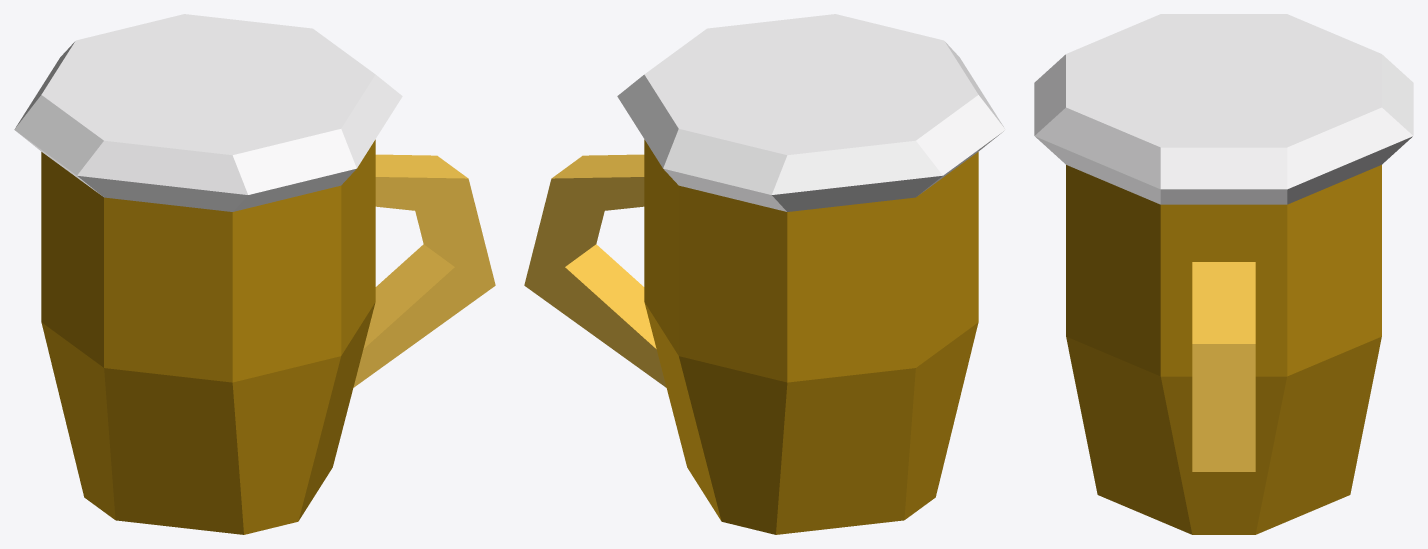
Rendered from inv_wizards_mind_bomb.obj.
3 renders of one model, left to right at view 1: azimuth 30°, elevation 25°; view 2: azimuth 150°, elevation 25°; view 3: azimuth 270°, elevation 25°, orthographic.
Bounding box in the file's own units: 0.25 × 0.2188 × 0.1875.
